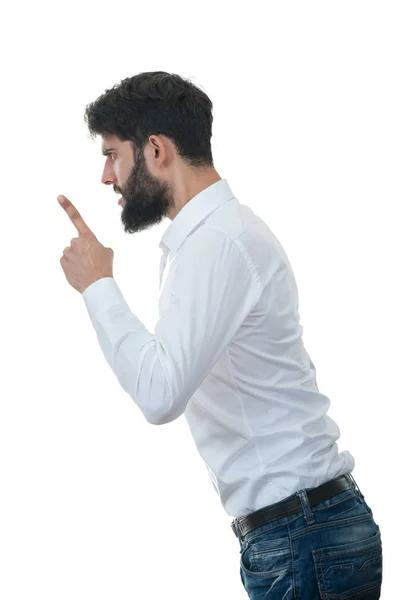long sleeve shirt: (79, 176, 358, 524)
trousers: (232, 471, 384, 600)
